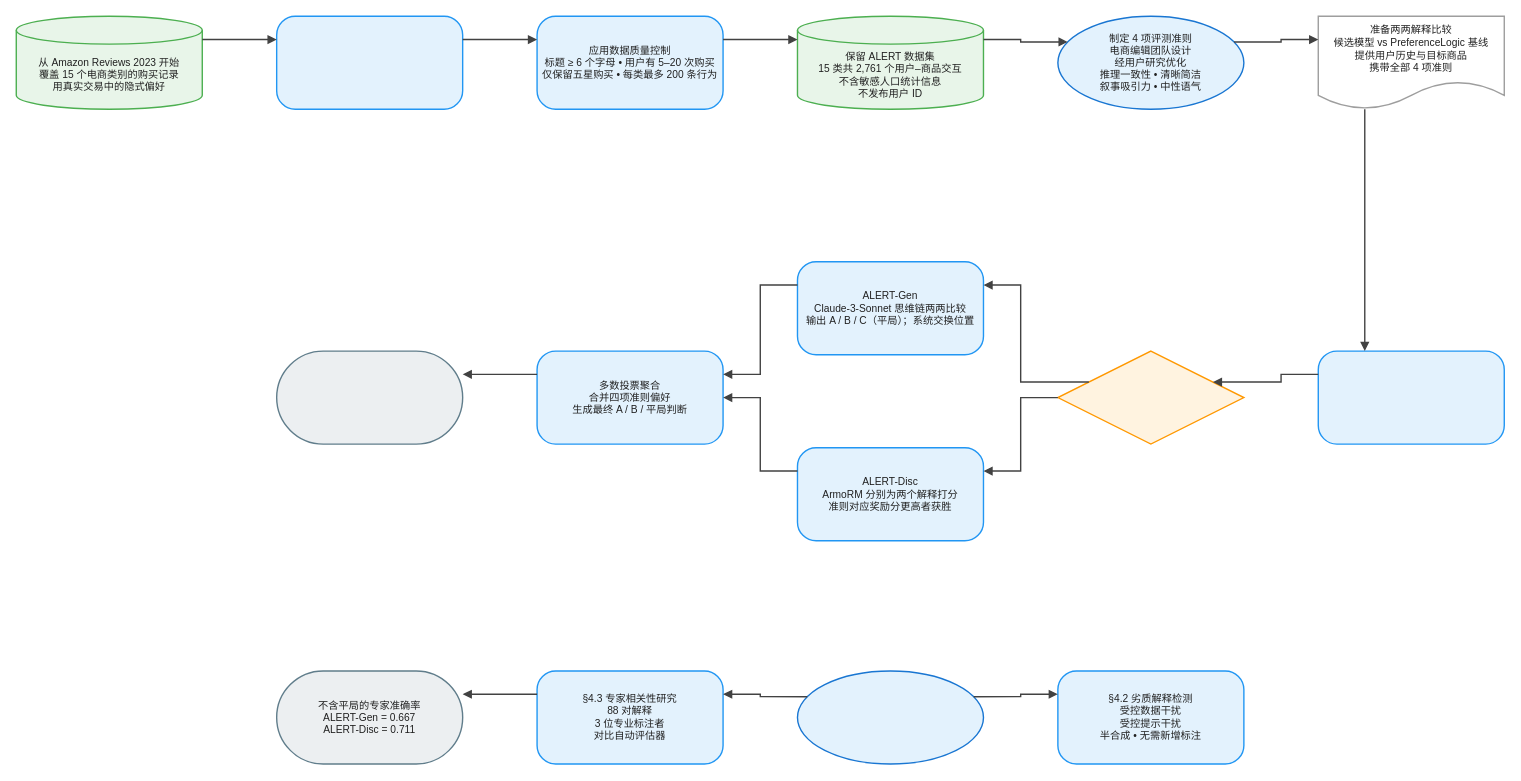
Image size: 1521x781. Some labels were removed from this diagram. Each missing label, with the centre of its shape:
"ALERT 基准结果 胜率 = 候选解释优于基线的交互占比 分别报告 ALERT-Gen 与 ALERT-Disc 比较" goes at point (369, 397).
"先拆分 4 项评测准则 推理 • 清晰度 叙事 • 语气 形成 4 个聚焦比较" goes at point (1411, 397).
"单独开展元评测 ALERT-Gen + ALERT-Disc 不属于基准计分下游" goes at point (890, 717).
"同一评估器 覆盖全部 4 项准则？" goes at point (1150, 397).
"构建推荐上下文 最近一次购买 = 目标商品 标题 + 价格 + 商家；更早购买 = 用户历史" goes at point (369, 62).
